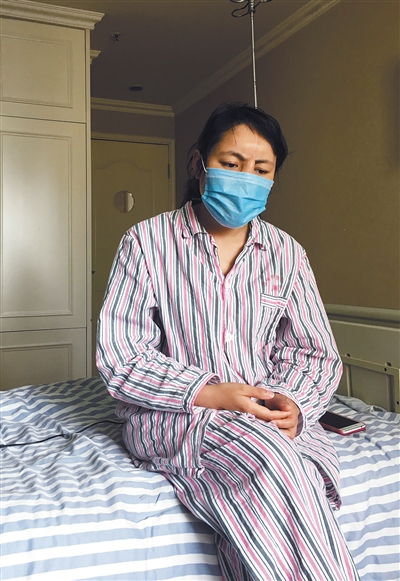face_mask: (205, 126, 273, 228)
